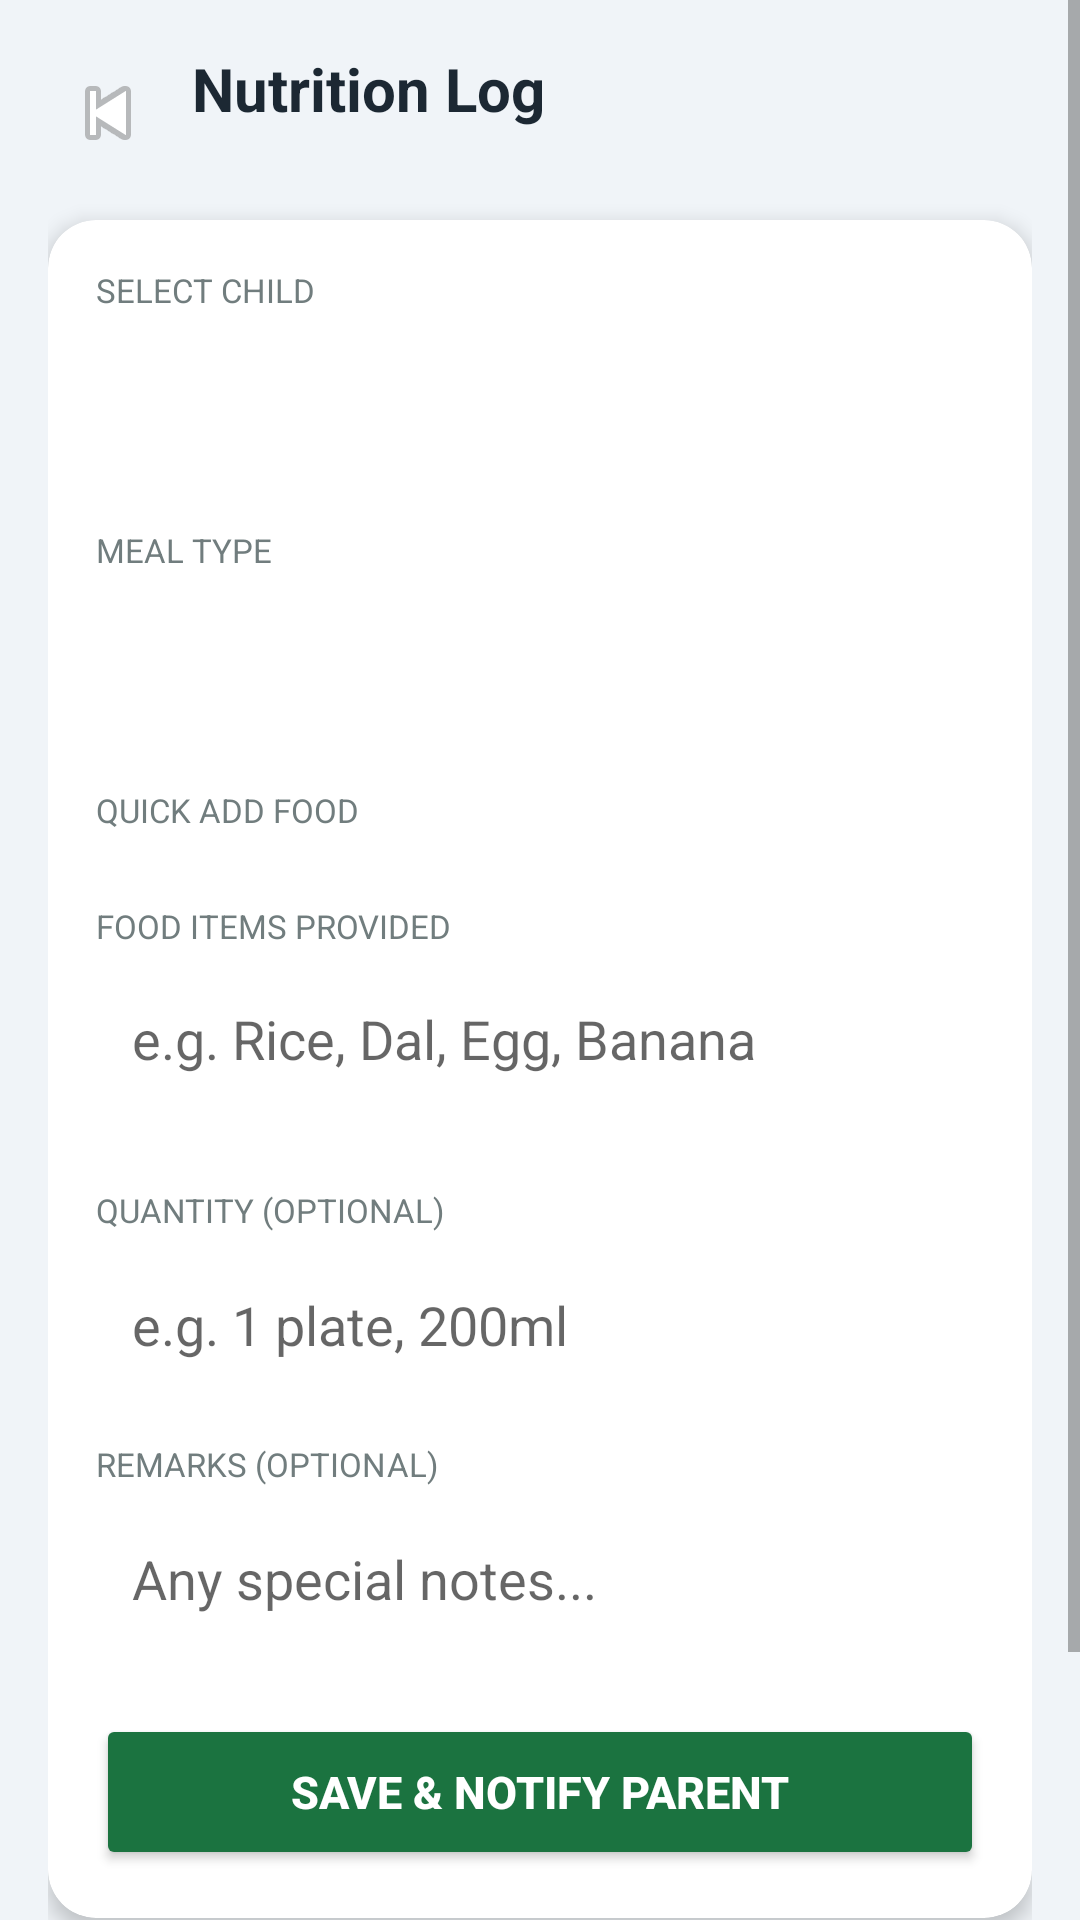

Named icons in this screenshot (1080*1920) and their centers, point (x, y):
previous: point (108, 113)
